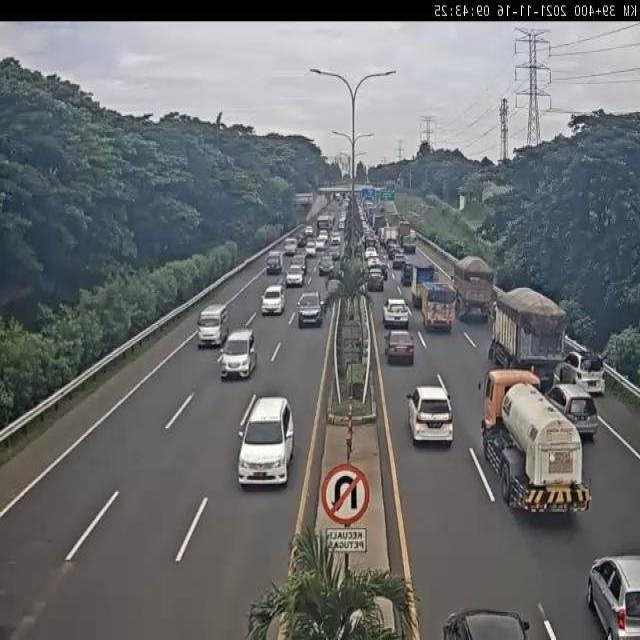Car: (234, 394, 296, 488), (585, 553, 640, 639), (440, 605, 533, 640), (547, 384, 600, 438), (408, 385, 452, 448), (560, 350, 608, 396), (383, 330, 415, 364), (296, 292, 323, 328), (259, 284, 285, 316), (383, 298, 409, 328), (284, 267, 306, 285), (367, 268, 385, 290), (402, 263, 419, 285), (320, 258, 336, 277), (393, 254, 407, 268), (364, 246, 378, 259), (304, 243, 316, 256), (331, 231, 341, 244), (304, 225, 314, 236)
Truck: (476, 367, 592, 521), (487, 287, 565, 375), (450, 253, 494, 318), (420, 277, 458, 333), (411, 265, 438, 305), (266, 251, 284, 274)
Van: (220, 329, 256, 380), (196, 303, 228, 349)
